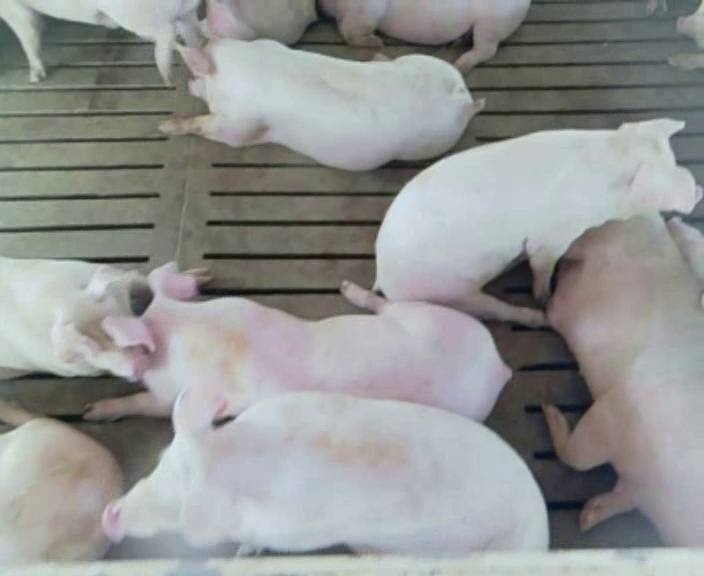pig: (103, 387, 547, 552), (85, 263, 510, 420), (375, 118, 700, 323), (160, 1, 477, 170), (546, 214, 703, 544), (318, 1, 529, 72)
